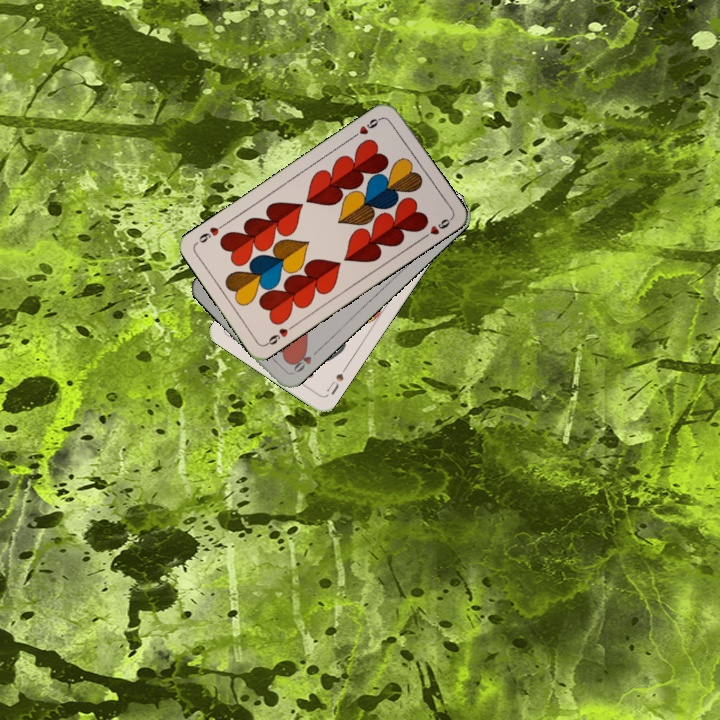H9: (348, 113, 385, 141), (261, 321, 297, 348)
HO: (287, 345, 321, 377)
SU: (323, 362, 349, 397)
